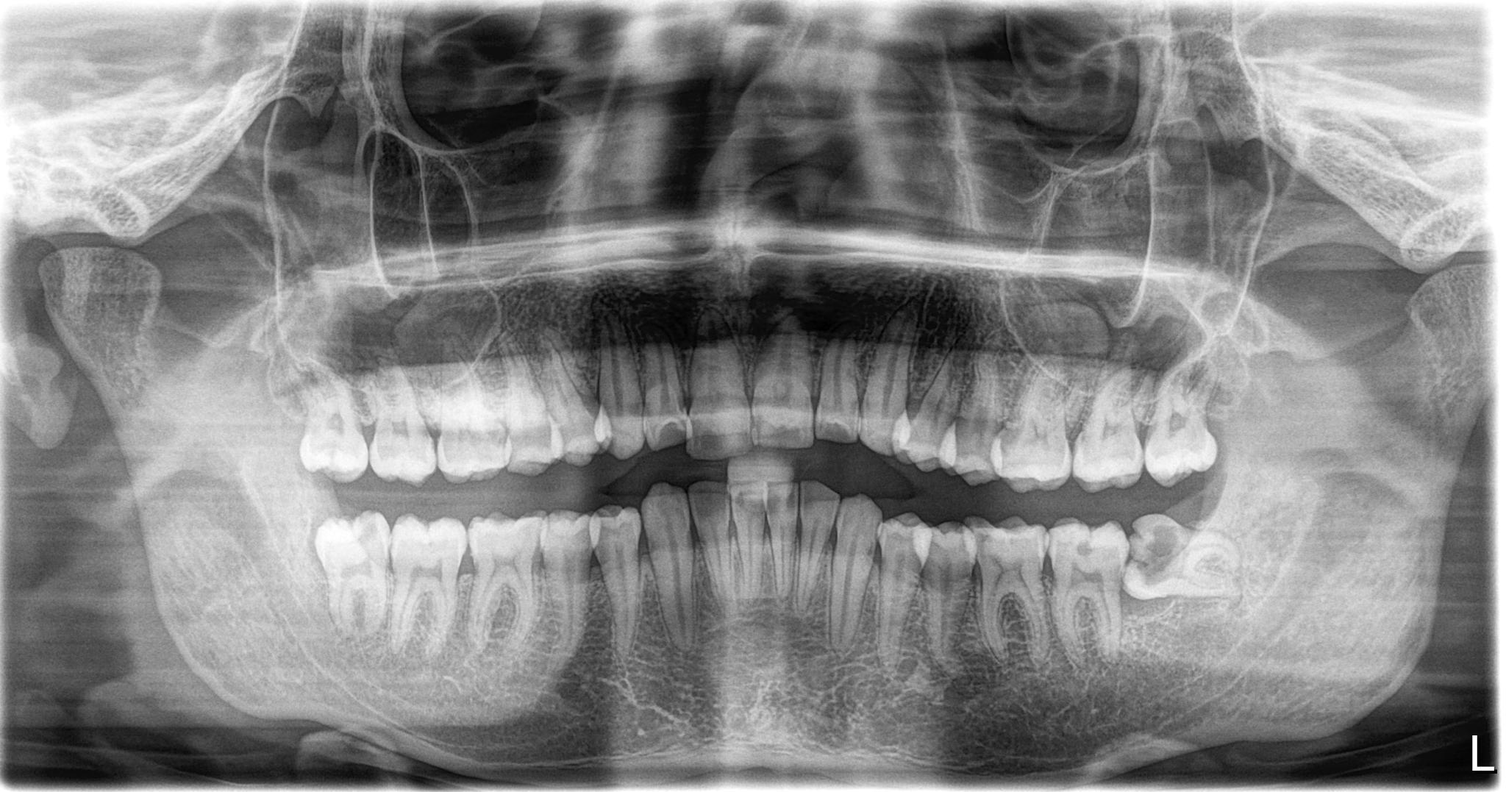Dental Caries: (1143, 520, 1182, 574), (1160, 406, 1192, 441), (654, 417, 685, 447)
Impacted Third Molar: (1132, 517, 1251, 599)
